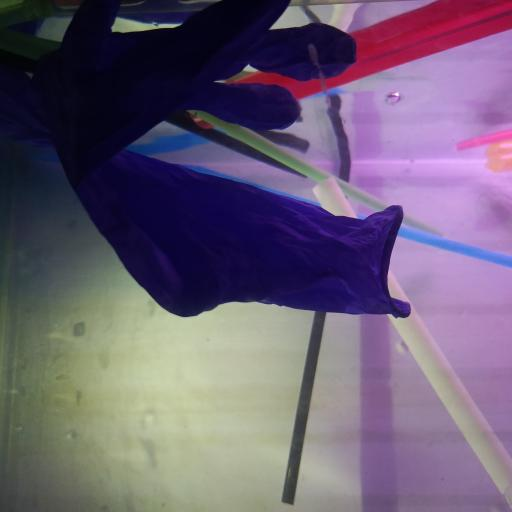glove: (7, 6, 411, 318)
plastic_straw: (313, 175, 509, 507), (225, 0, 511, 101), (190, 107, 386, 212), (161, 108, 304, 180), (282, 310, 326, 507), (124, 126, 214, 161), (1, 28, 62, 64)
